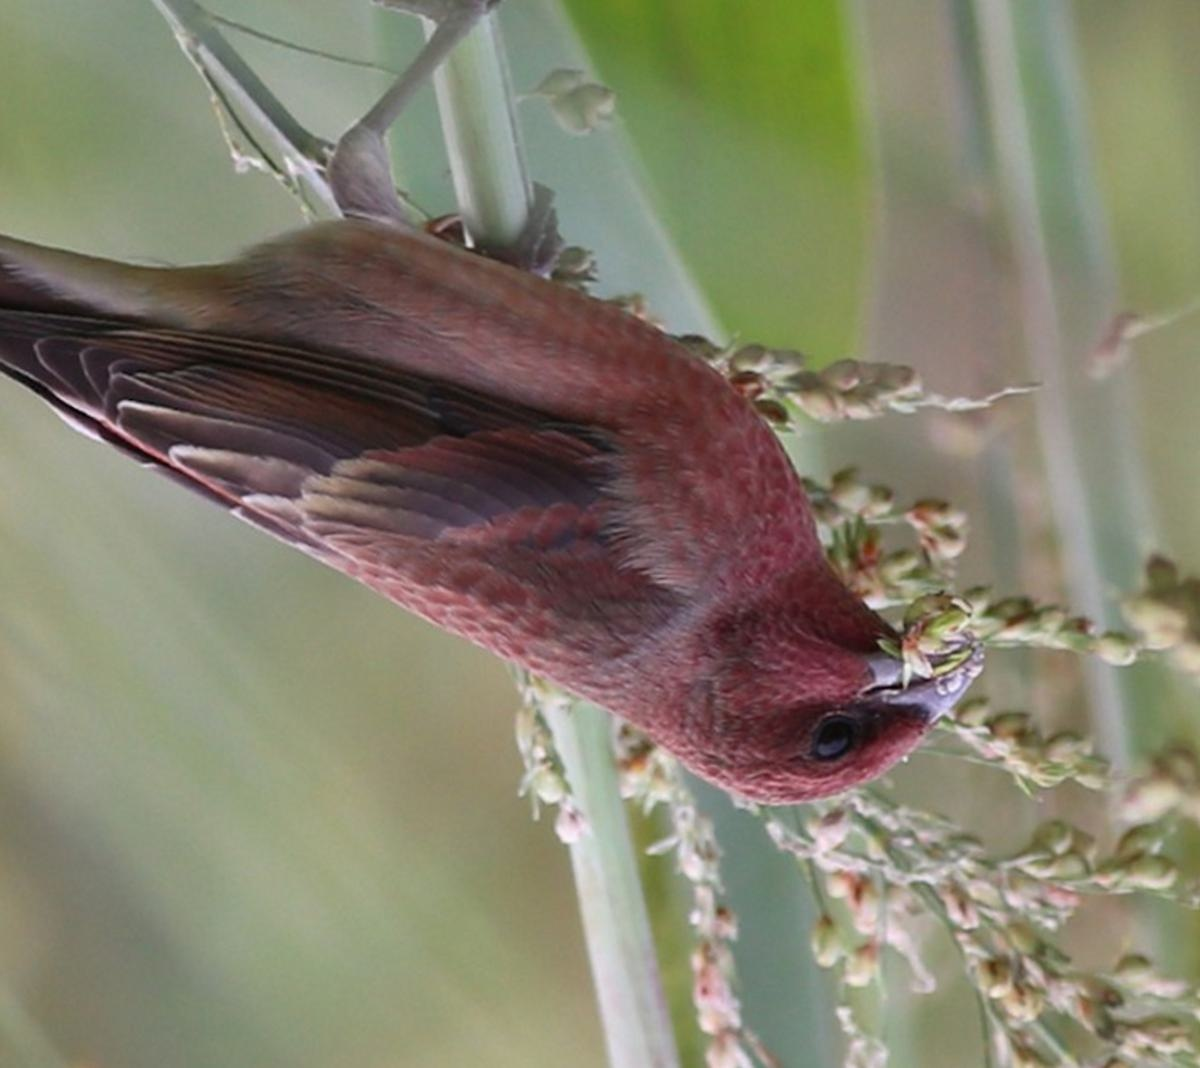rosefinch: (144, 205, 1014, 814)
